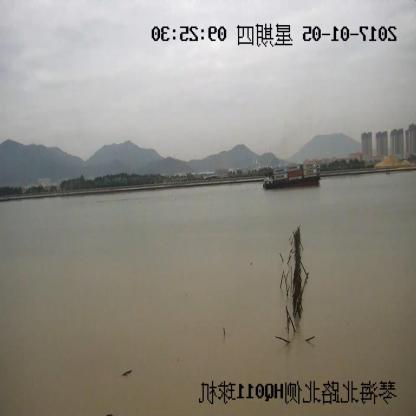Container Ship: (264, 164, 321, 190)
